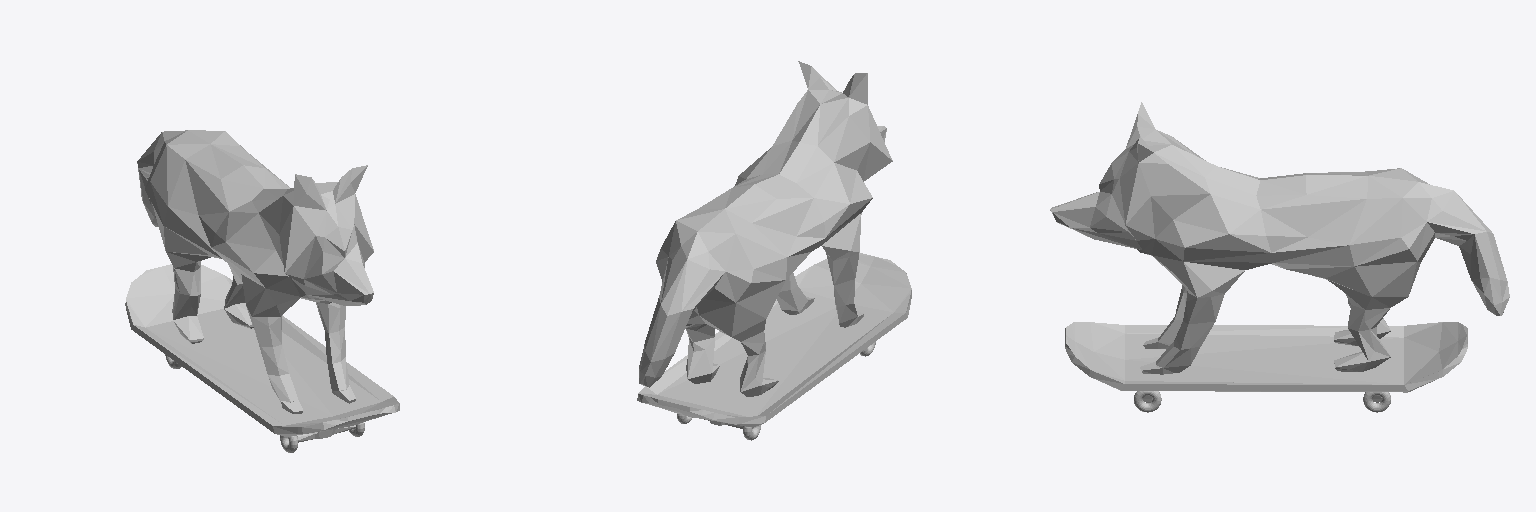
The model's file is Fuchs26.obj.
3 renders of one model, left to right at view 1: azimuth 30°, elevation 25°; view 2: azimuth 150°, elevation 25°; view 3: azimuth 270°, elevation 25°, orthographic.
Size of the model in its own units: 3.58 by 7.88 by 11.74.